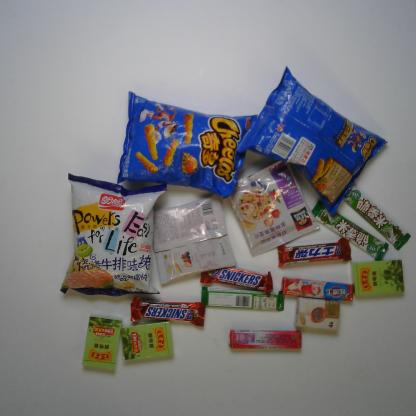Candy: (81, 314, 124, 372), (120, 320, 175, 361), (350, 258, 406, 296), (281, 275, 355, 302), (227, 329, 303, 350)
Chocolate: (340, 181, 412, 252), (310, 198, 390, 261), (128, 296, 206, 327), (198, 285, 286, 312), (199, 264, 273, 296), (276, 237, 352, 267)
Instant Drink: (228, 159, 322, 258), (150, 192, 238, 284)
Puffed Food: (233, 65, 388, 217), (116, 88, 258, 200), (57, 171, 168, 298)
Tissue: (293, 296, 342, 333)
